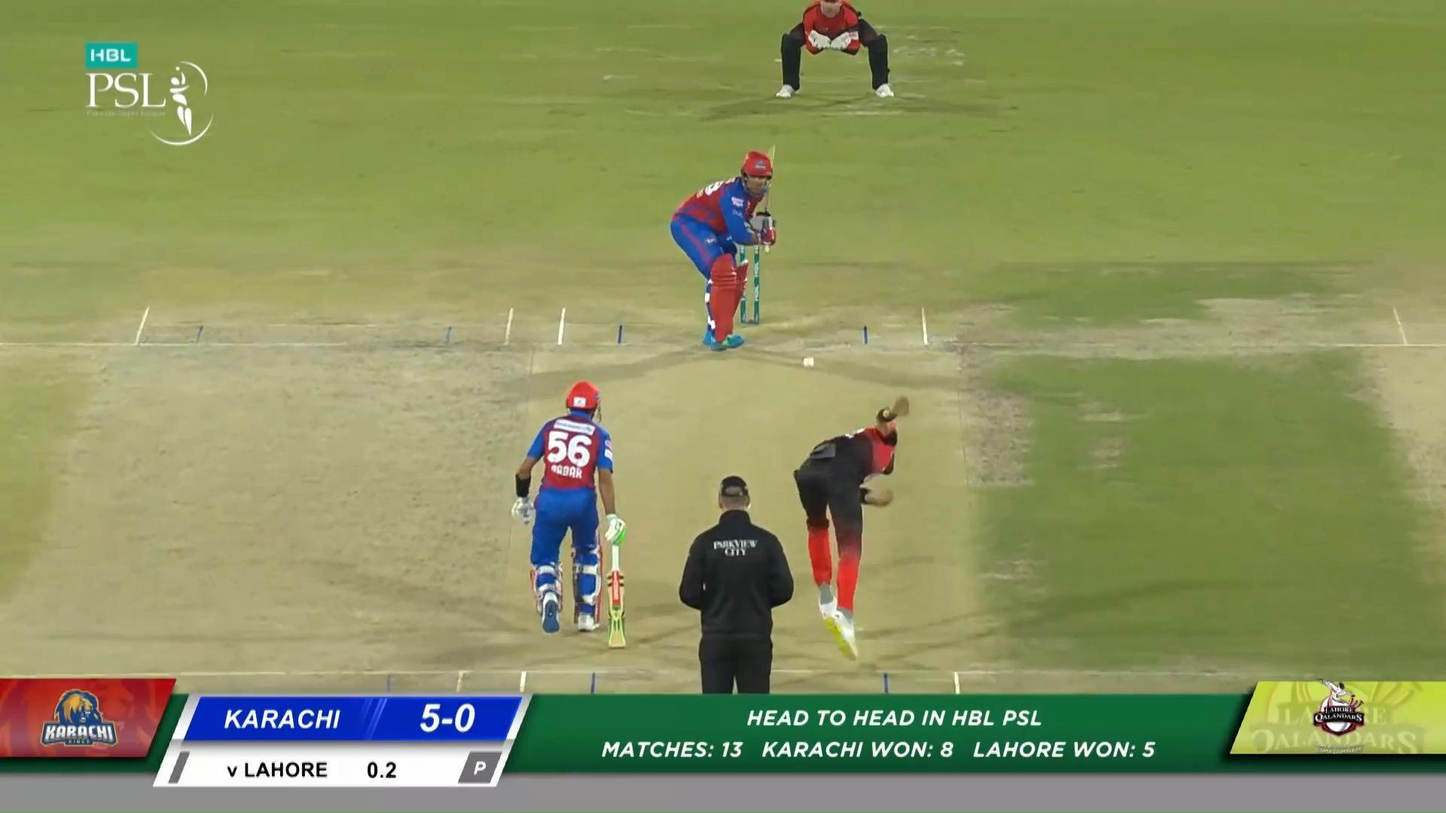BM 1: (670, 145, 779, 353)
BO: (791, 395, 912, 662)
